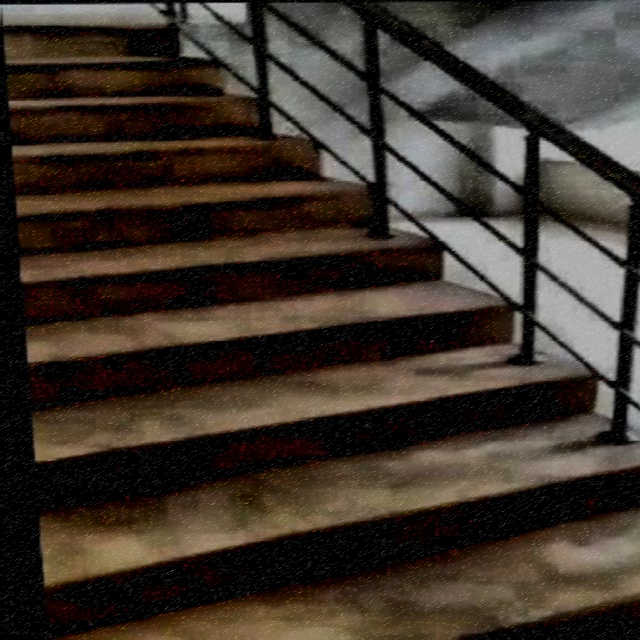stair: (2, 12, 640, 638)
